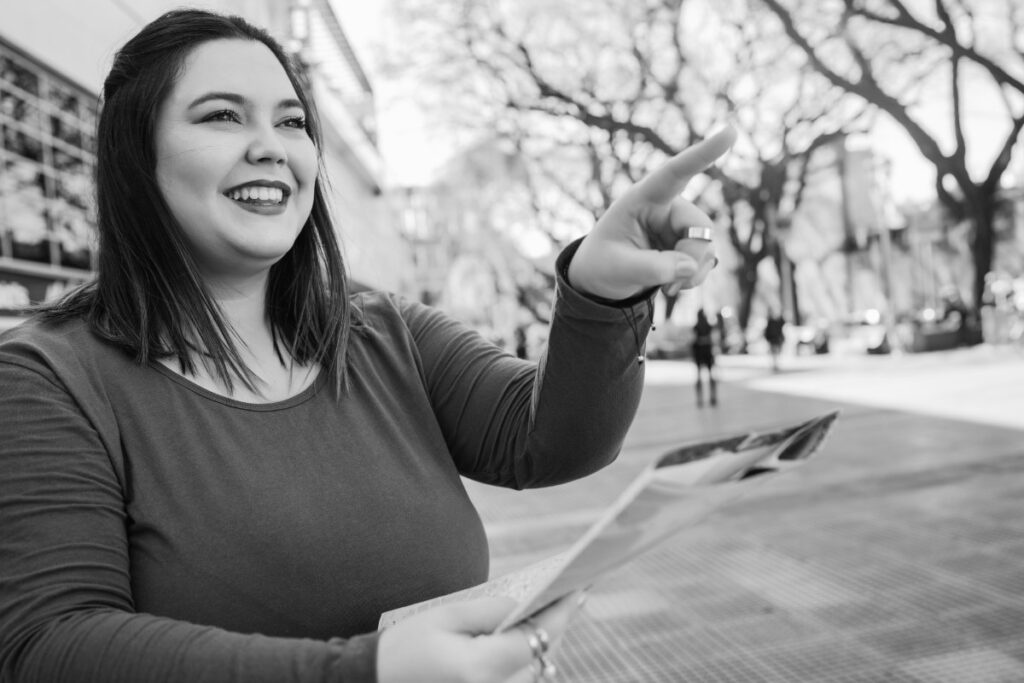pointing_gesture: (571, 122, 762, 298)
